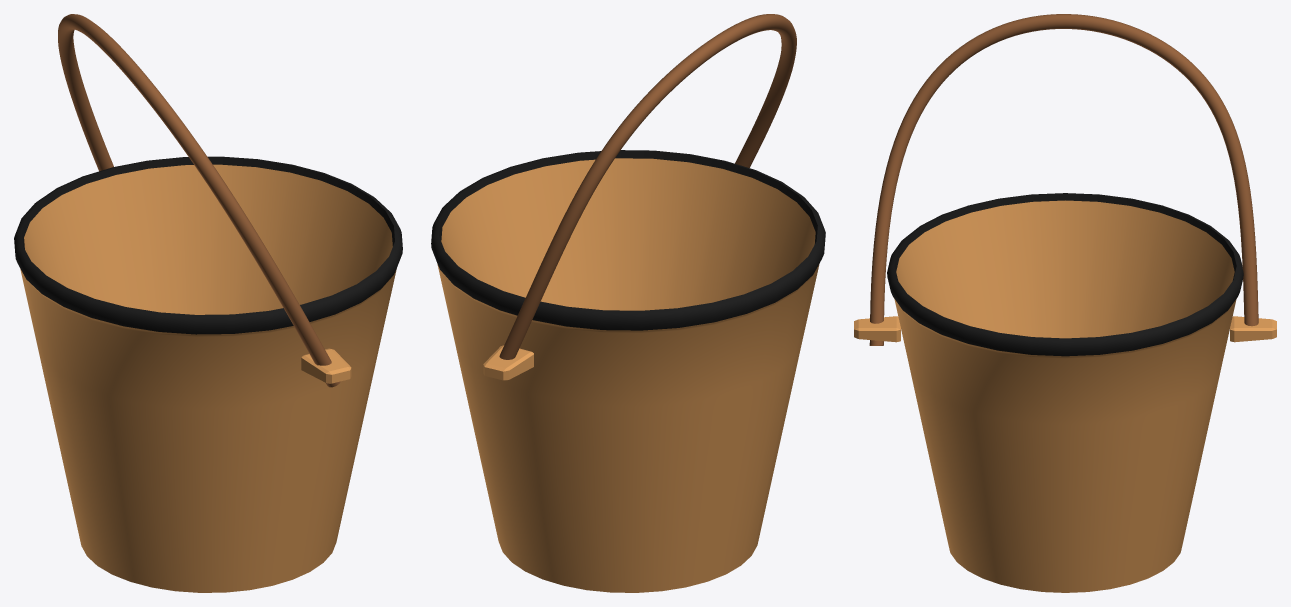
Rendered from ведро пустое.fbx.
3 views of the same model, side by side, from view 1: azimuth 30°, elevation 25°; view 2: azimuth 150°, elevation 25°; view 3: azimuth 270°, elevation 25° (orthographic). The views are drawn at different scales.
Parts seen in each view (by area): view 1: Цилиндр, ТраекторияNurbs.007, Куб.034; view 2: Цилиндр, ТраекторияNurbs.007, Куб.034; view 3: Цилиндр, ТраекторияNurbs.007, Куб.034.
Part boxes in pixels (bbox=[...]): Цилиндр: bbox=[14, 156, 402, 592]; ТраекторияNurbs.007: bbox=[58, 14, 340, 387]; Куб.034: bbox=[301, 348, 351, 383]; Цилиндр: bbox=[431, 150, 825, 592]; ТраекторияNurbs.007: bbox=[499, 14, 796, 359]; Куб.034: bbox=[483, 345, 533, 380]; Цилиндр: bbox=[887, 193, 1243, 592]; ТраекторияNurbs.007: bbox=[869, 14, 1258, 345]; Куб.034: bbox=[854, 316, 1276, 342].
Bounding box in the file's own units: 86.18 × 129 × 102.
